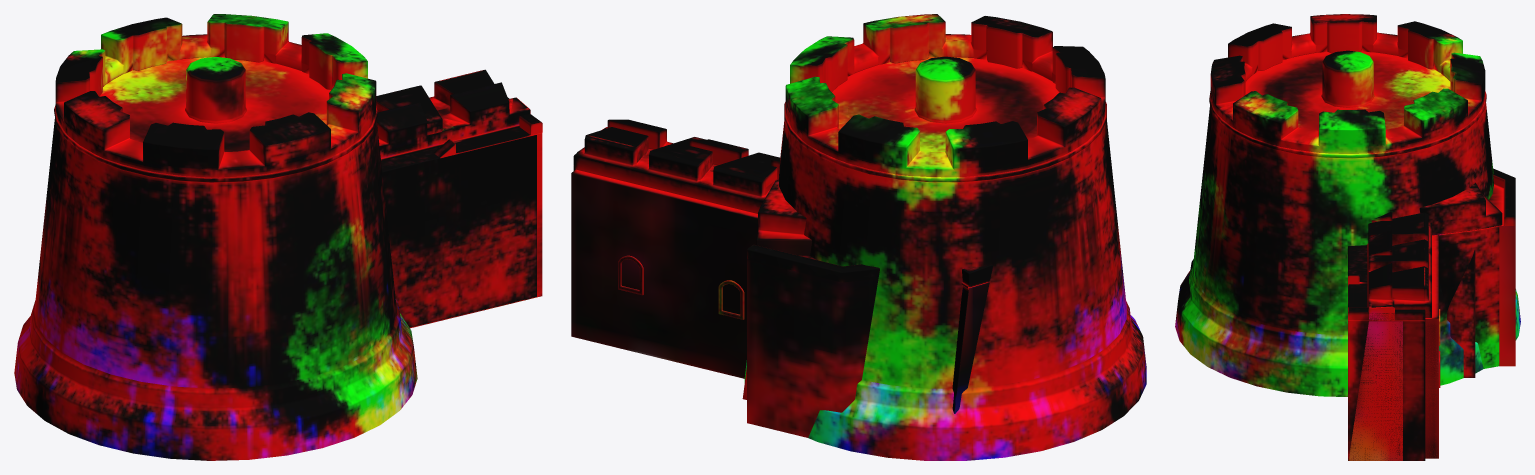
File: modular_fort_01.glb
The picture shows the model from 3 angles, left to right: view 1: azimuth 30°, elevation 25°; view 2: azimuth 150°, elevation 25°; view 3: azimuth 270°, elevation 25°; orthographic projection. The views are drawn at different scales.
Parts seen in each view (by area): view 1: modular_fort_01_tower_round, modular_fort_01_wall_walkway_straight_01, modular_fort_01_wall_thin_straight_01, modular_fort_01_wall_thin_straight_02, modular_fort_01_wall_thick_straight_02, modular_fort_01_wall_stairs_straight_01, modular_fort_01_wall_walkway_straight_02; view 2: modular_fort_01_tower_round, modular_fort_01_wall_thick_straight_01, modular_fort_01_wall_walkway_corner_01, modular_fort_01_wall_thick_straight_02, modular_fort_01_wall_thin_corner_03, modular_fort_01_wall_thick_corner_02, modular_fort_01_wall_thin_straight_02; view 3: modular_fort_01_tower_round, modular_fort_01_wall_thin_straight_02, modular_fort_01_wall_thick_corner_02, modular_fort_01_wall_stairs_straight_01, modular_fort_01_wall_thick_straight_02, modular_fort_01_wall_walkway_corner_01, modular_fort_01_wall_thick_straight_01, modular_fort_01_wall_thick_corner_01, modular_fort_01_wall_walkway_straight_02, modular_fort_01_wall_thin_straight_01.
Part boxes in pixels (x1,y1,x2,y2): modular_fort_01_tower_round: (14, 14, 417, 460); modular_fort_01_wall_walkway_straight_01: (382, 135, 536, 327); modular_fort_01_wall_thin_straight_01: (377, 83, 529, 160); modular_fort_01_wall_thin_straight_02: (376, 82, 530, 146); modular_fort_01_wall_thick_straight_02: (376, 70, 508, 122); modular_fort_01_wall_stairs_straight_01: (410, 97, 542, 327); modular_fort_01_wall_walkway_straight_02: (381, 127, 536, 327); modular_fort_01_tower_round: (744, 14, 1146, 460); modular_fort_01_wall_thick_straight_01: (571, 135, 777, 378); modular_fort_01_wall_walkway_corner_01: (747, 244, 879, 437); modular_fort_01_wall_thick_straight_02: (572, 127, 780, 319); modular_fort_01_wall_thin_corner_03: (952, 264, 992, 413); modular_fort_01_wall_thick_corner_02: (756, 179, 811, 255); modular_fort_01_wall_thin_straight_02: (602, 119, 779, 179); modular_fort_01_tower_round: (1175, 14, 1520, 396); modular_fort_01_wall_thin_straight_02: (1348, 211, 1402, 460); modular_fort_01_wall_thick_corner_02: (1419, 182, 1502, 368); modular_fort_01_wall_stairs_straight_01: (1348, 275, 1425, 460); modular_fort_01_wall_thick_straight_02: (1368, 212, 1440, 458); modular_fort_01_wall_walkway_corner_01: (1489, 168, 1515, 366); modular_fort_01_wall_thick_straight_01: (1368, 212, 1438, 458); modular_fort_01_wall_thick_corner_01: (1447, 250, 1475, 377); modular_fort_01_wall_walkway_straight_02: (1348, 245, 1367, 307); modular_fort_01_wall_thin_straight_01: (1367, 220, 1394, 307).
Size of the model in its own units: 22.74 by 13.67 by 15.84.
3 materials, 3 textured.
